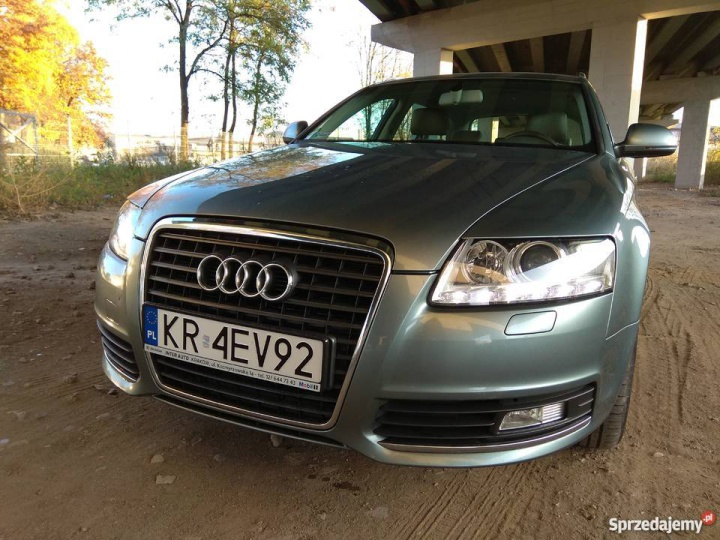audi: (187, 249, 302, 307)
